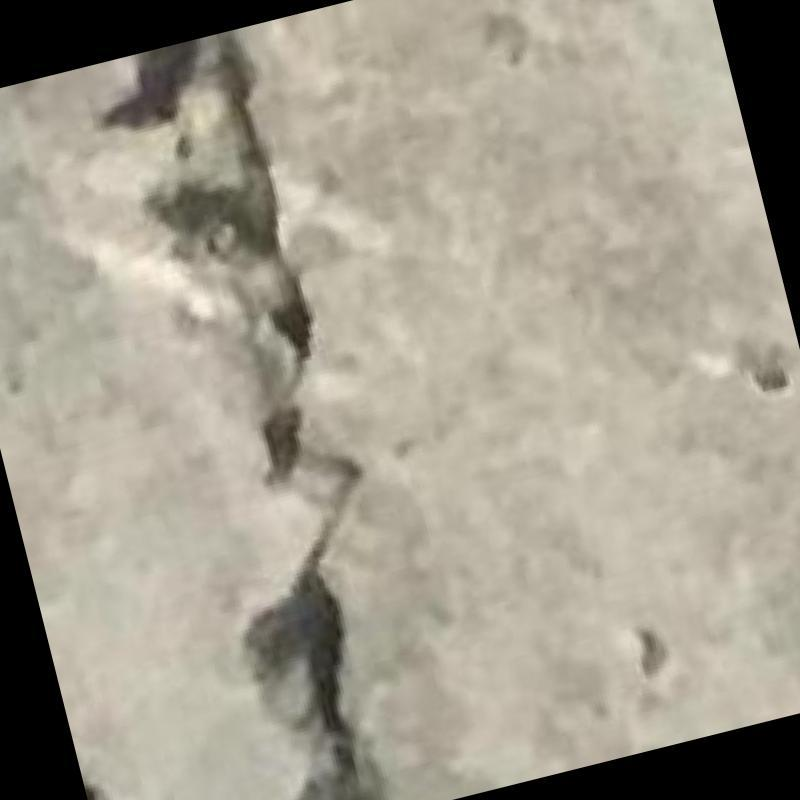pothole: (100, 30, 384, 800)
